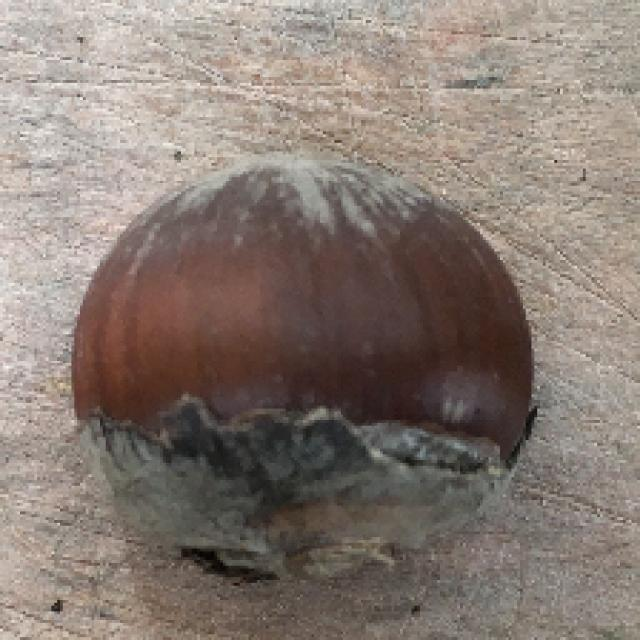damagedHazelnut: (77, 150, 547, 583)
